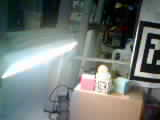duck: (84, 54, 116, 81)
